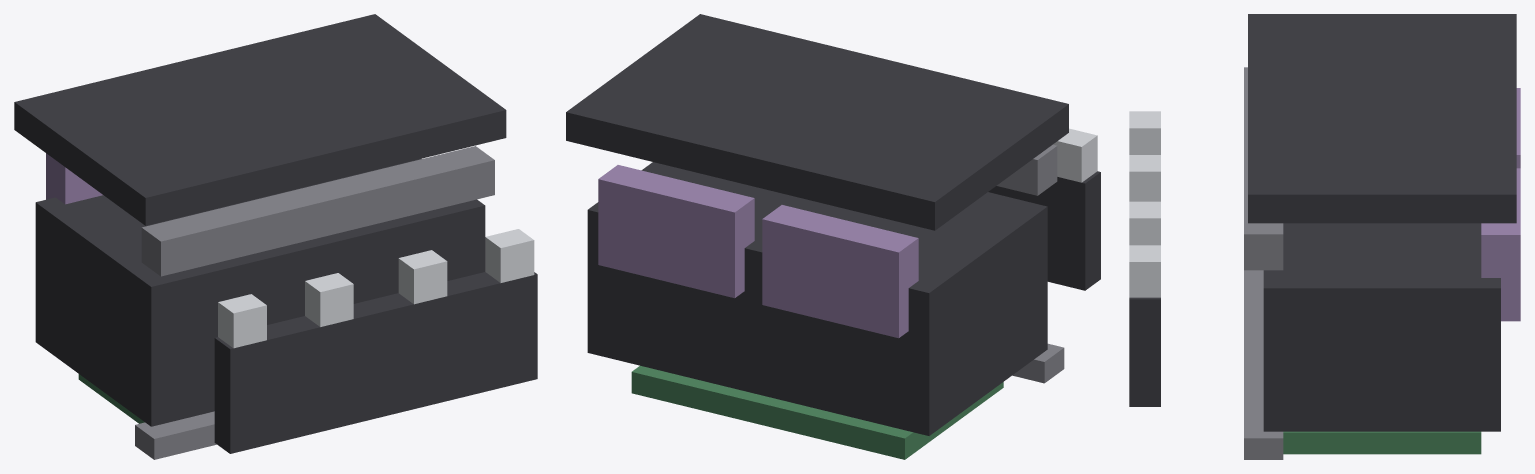
Rendered from expansion_slot.gltf.
3 views of the same model, side by side, from view 1: azimuth 30°, elevation 25°; view 2: azimuth 150°, elevation 25°; view 3: azimuth 270°, elevation 25° (orthographic). The views are drawn at different scales.
Parts seen in each view (by area): view 1: expansion_slot; view 2: expansion_slot; view 3: expansion_slot.
Boxes of the visible parts, bbox=[...] form: expansion_slot: bbox=[14, 14, 537, 459]; expansion_slot: bbox=[566, 14, 1100, 459]; expansion_slot: bbox=[1129, 14, 1520, 459].
Bounding box in the file's own units: 0.054 × 0.0395 × 0.0495.
